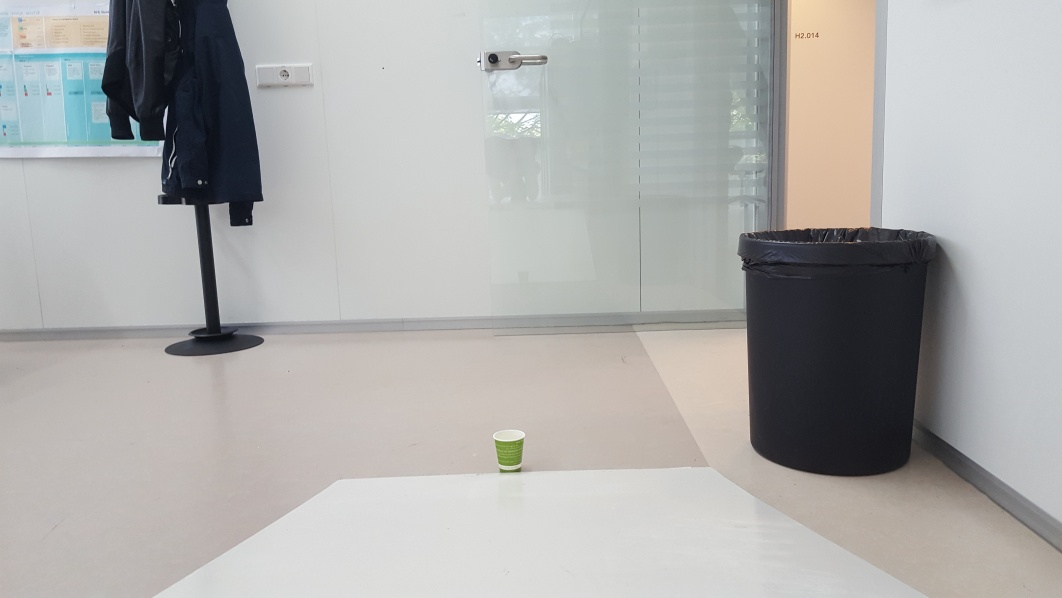cup: (492, 428, 528, 473)
